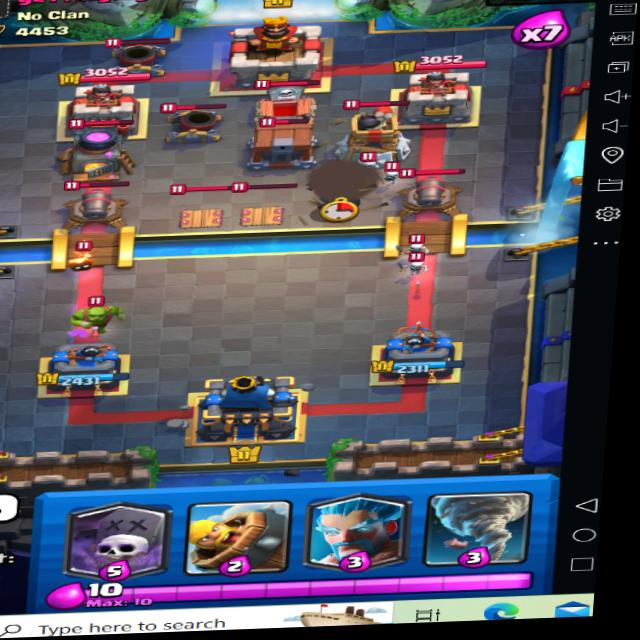Bombtower: (302, 147, 390, 224), (326, 94, 416, 168)
Cannon: (392, 162, 470, 218), (65, 177, 134, 226)
Firespirit: (64, 248, 99, 272)
Furnace: (60, 116, 146, 182)
Goblinbrawler: (65, 290, 122, 332)
Goblincage: (246, 110, 327, 165)
Mortar: (103, 25, 179, 77), (157, 101, 227, 136)
Skeleton: (373, 164, 406, 190), (351, 154, 388, 173), (401, 238, 430, 261), (400, 256, 424, 277)
Teslahidden: (226, 178, 300, 228), (166, 178, 235, 230)
Tombstone: (247, 74, 330, 123)
